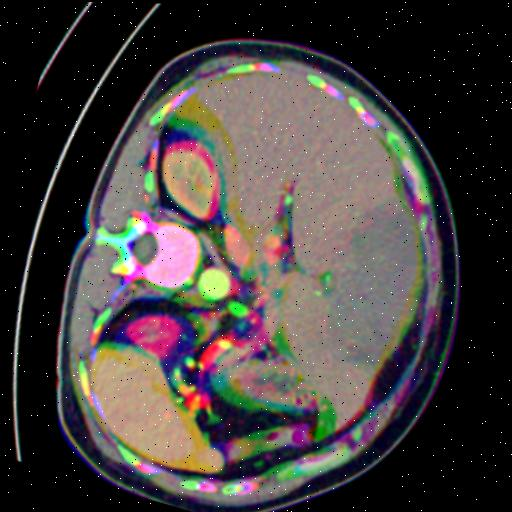Abscess: (325, 198, 417, 364)
